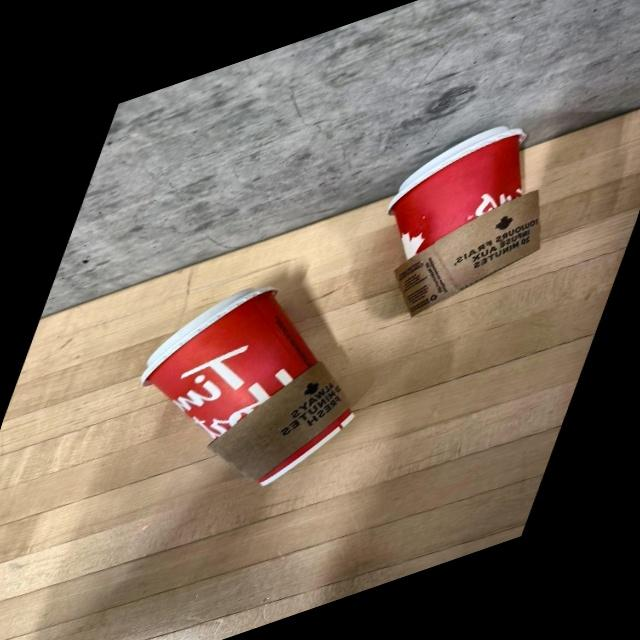Timmies: (74, 217, 432, 556), (335, 82, 602, 352)
